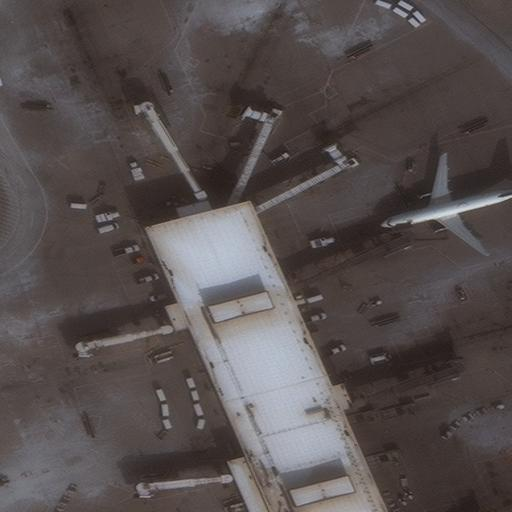Medium Civil Transport: (379, 155, 511, 257)
